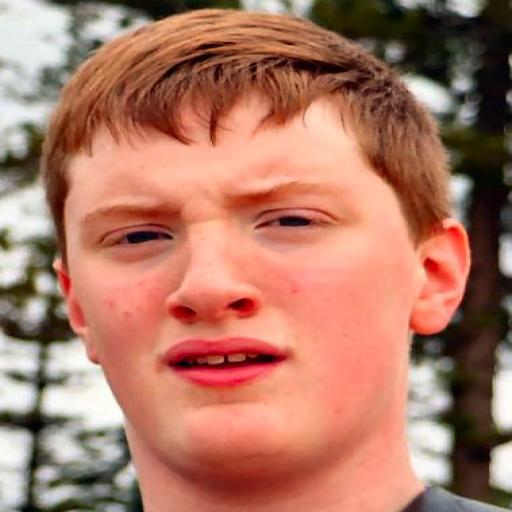Autism: (9, 9, 512, 511)
